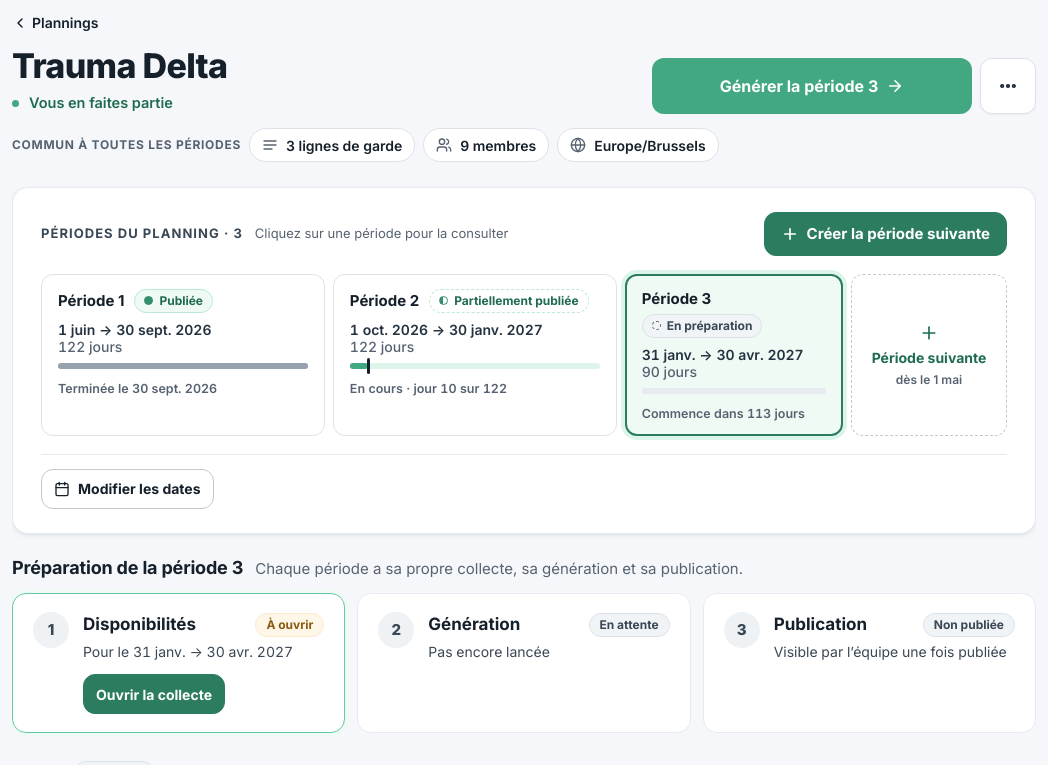
Scenario: PlanningDetailPage — periods (lot L6) › says why a collection could not be opened
Click the button "Ouvrir la collecte". click: (154, 694)
box: 83,674 -> 225,714
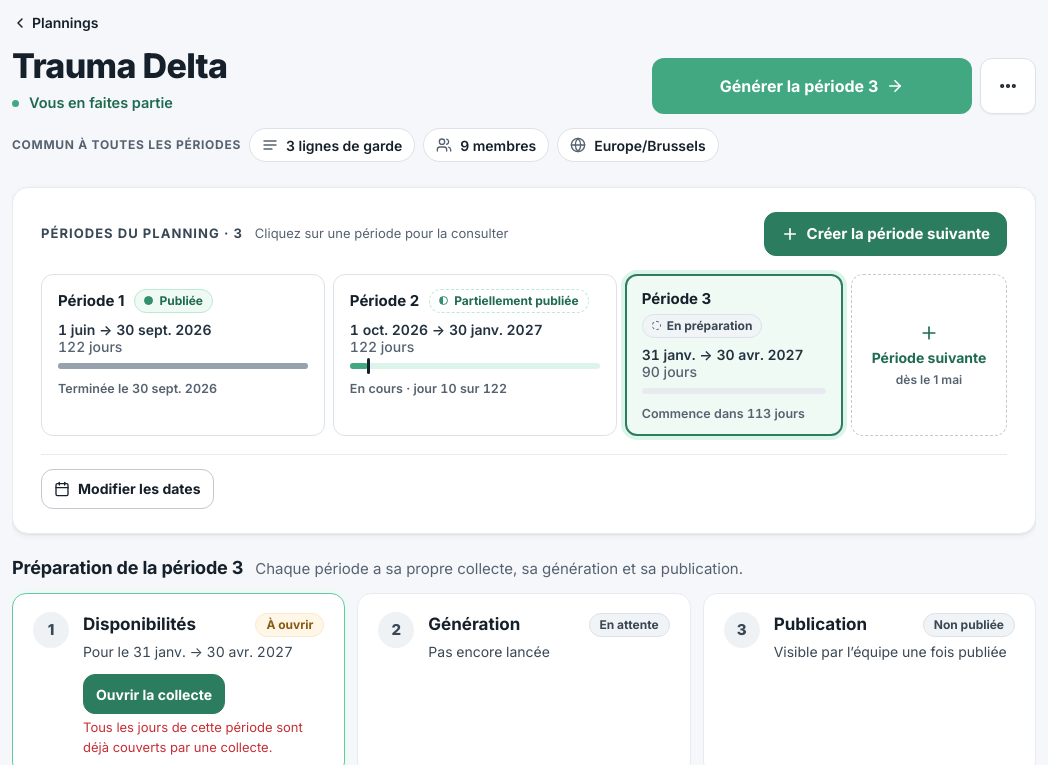
expect the message reads "Tous les jours de cette période sont déjà couverts par une collecte.": met, box 83,719 -> 303,755
